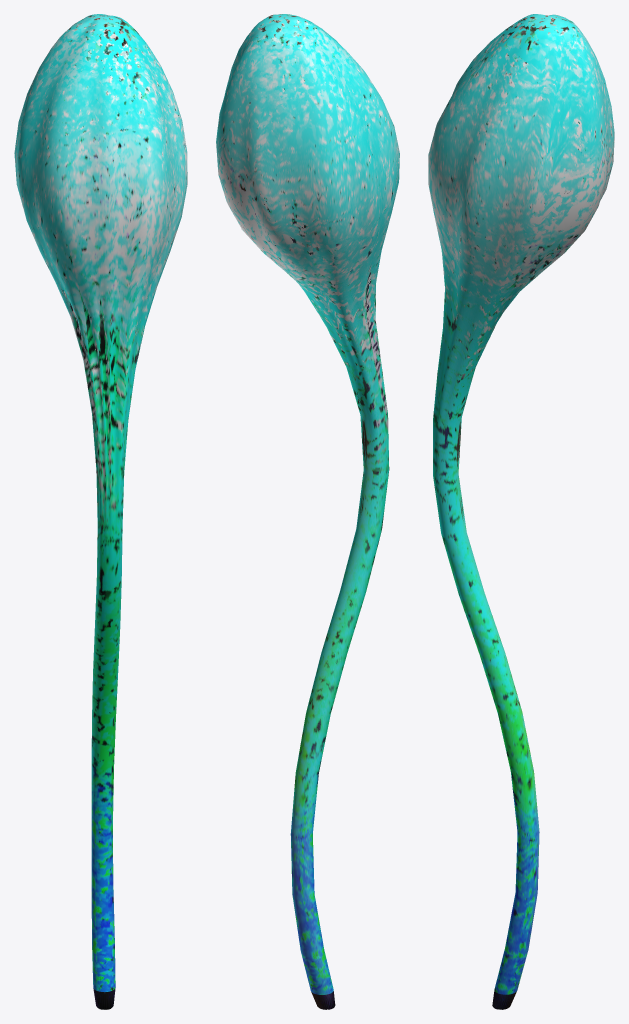
The model's file is sprooms_medium.fbx.
3 renders of one model, left to right at view 1: azimuth 30°, elevation 25°; view 2: azimuth 150°, elevation 25°; view 3: azimuth 270°, elevation 25°, orthographic. The views are drawn at different scales.
Visible parts, largest first — view 1: sprooms; view 2: sprooms; view 3: sprooms.
Boxes of the visible parts, x1,y1,x2,y2 form: sprooms: (14, 14, 187, 1009); sprooms: (216, 14, 399, 1009); sprooms: (428, 14, 614, 1009).
Bounding box in the file's own units: 4.88 × 30.62 × 5.17.
